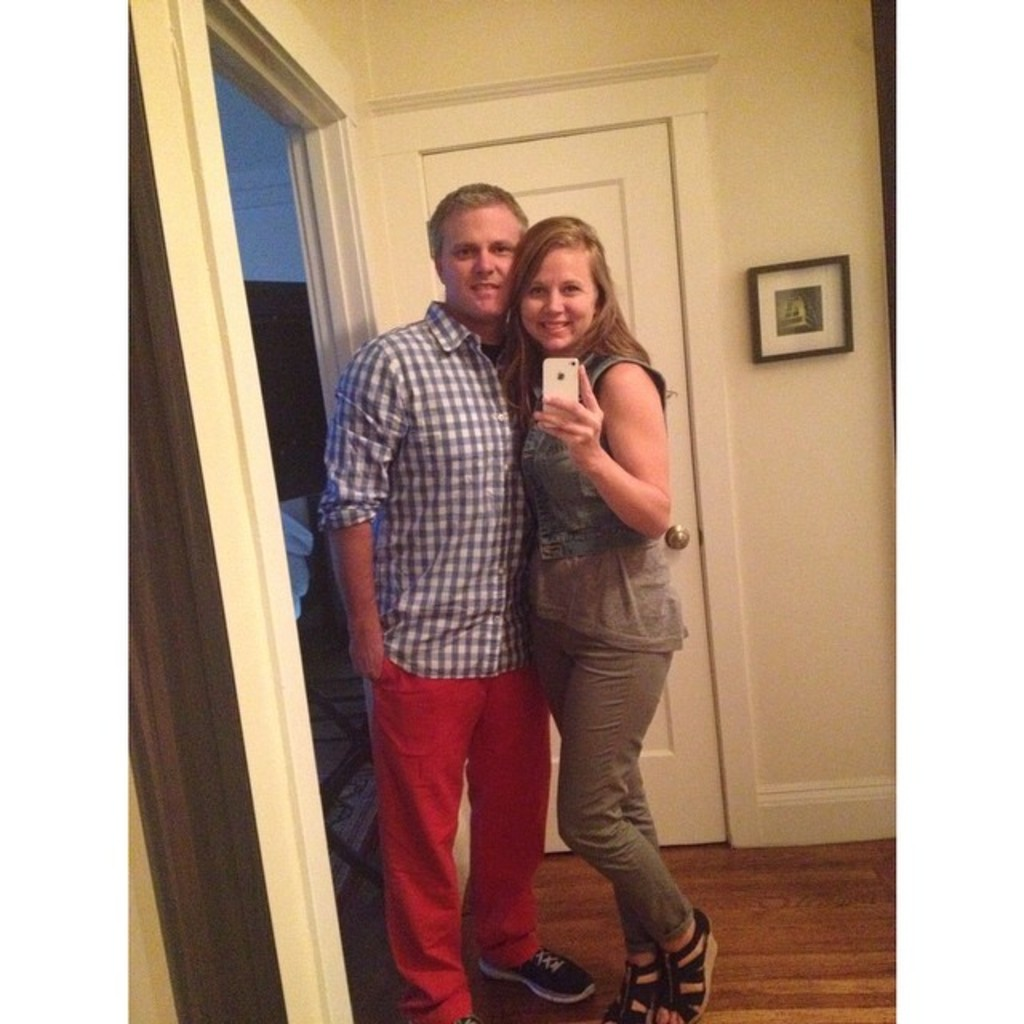Human-face: (443, 200, 520, 322), (530, 245, 592, 350)
